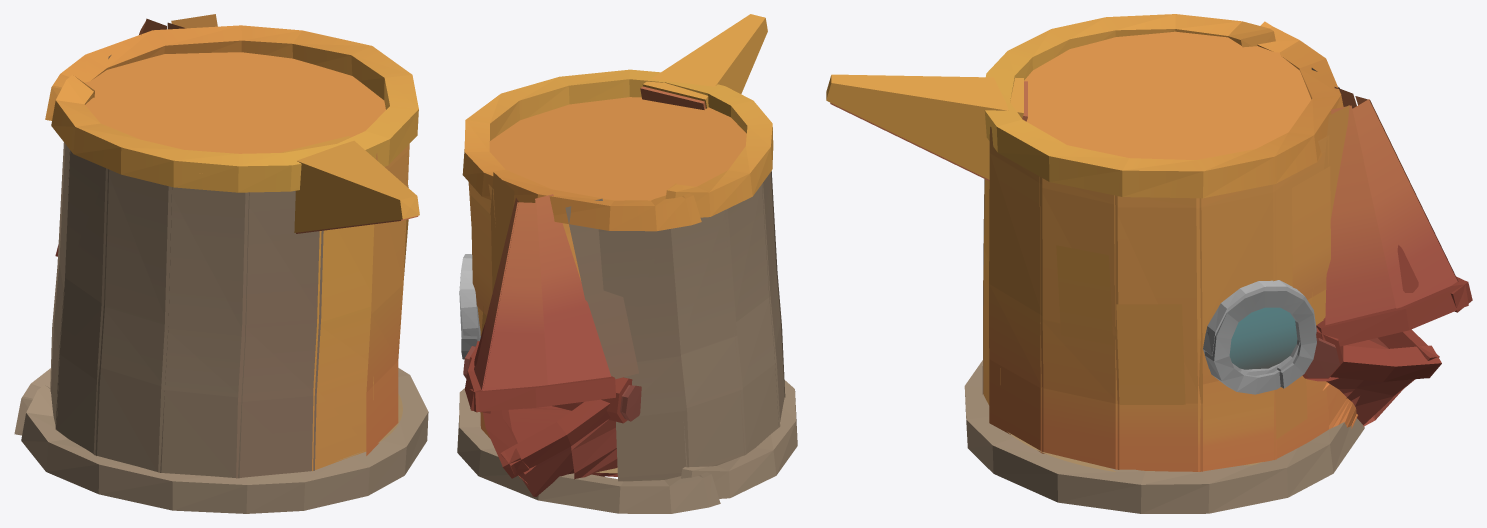
File: Head.fbx
3 renders of one model, left to right at view 1: azimuth 30°, elevation 25°; view 2: azimuth 150°, elevation 25°; view 3: azimuth 270°, elevation 25°, orthographic. The views are drawn at different scales.
Parts seen in each view (by area): view 1: Headback, Headfront; view 2: Headback, Headfront; view 3: Headback, Headfront.
Boxes of the visible parts, x1,y1,x2,y2 form: Headback: [14, 18, 428, 513]; Headfront: [171, 14, 409, 455]; Headback: [457, 14, 797, 513]; Headfront: [459, 172, 581, 478]; Headback: [826, 14, 1472, 513]; Headfront: [989, 105, 1363, 471].
Size of the model in its own units: 10.64 by 10.79 by 17.05.
